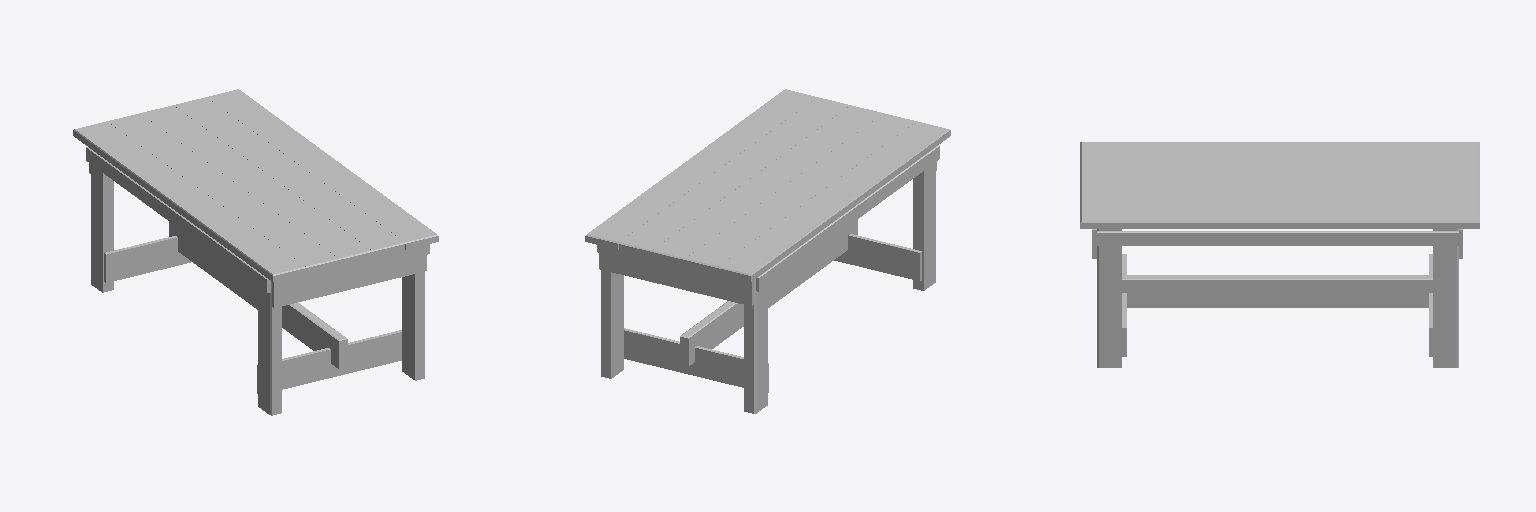
File: Wooden_Table.obj
3 views of the same model, side by side, from view 1: azimuth 30°, elevation 25°; view 2: azimuth 150°, elevation 25°; view 3: azimuth 270°, elevation 25° (orthographic).
Visible parts, largest first — view 1: Table_bot; view 2: Table_bot; view 3: Table_bot.
Part boxes in pixels (x1,y1,x2,y2): Table_bot: (73, 89, 438, 415); Table_bot: (585, 89, 950, 413); Table_bot: (1080, 142, 1479, 367).
Size of the model in its own units: 6.42 by 5.5 by 13.42.